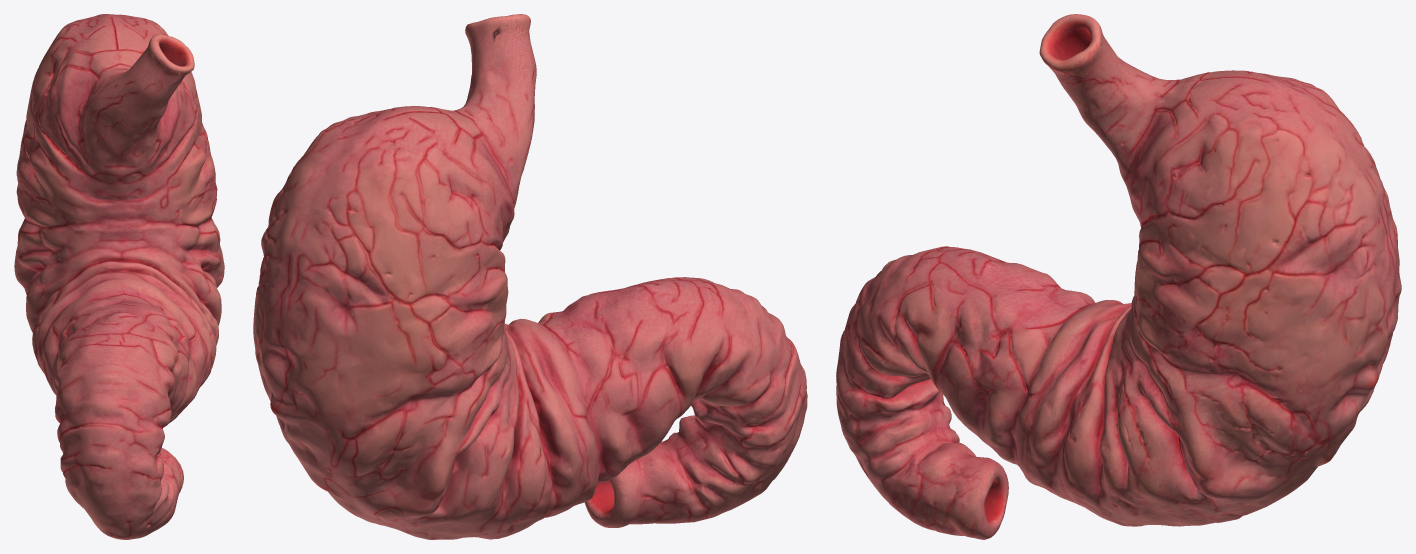
Rendered from stomach.glb.
The picture shows the model from 3 angles, left to right: view 1: azimuth 30°, elevation 25°; view 2: azimuth 150°, elevation 25°; view 3: azimuth 270°, elevation 25°; orthographic projection. The views are drawn at different scales.
Visible parts, largest first — view 1: tripo_node_cdf6be06-48a8-4aeb-9f37-c6714e3ccec9; view 2: tripo_node_cdf6be06-48a8-4aeb-9f37-c6714e3ccec9; view 3: tripo_node_cdf6be06-48a8-4aeb-9f37-c6714e3ccec9.
Part boxes in pixels (bbox=[...]): tripo_node_cdf6be06-48a8-4aeb-9f37-c6714e3ccec9: bbox=[14, 14, 224, 539]; tripo_node_cdf6be06-48a8-4aeb-9f37-c6714e3ccec9: bbox=[253, 14, 807, 539]; tripo_node_cdf6be06-48a8-4aeb-9f37-c6714e3ccec9: bbox=[836, 14, 1401, 539].
Size of the model in its own units: 0.6711 by 0.9998 by 0.9344.
Materials: 1 (1 with a texture image).
